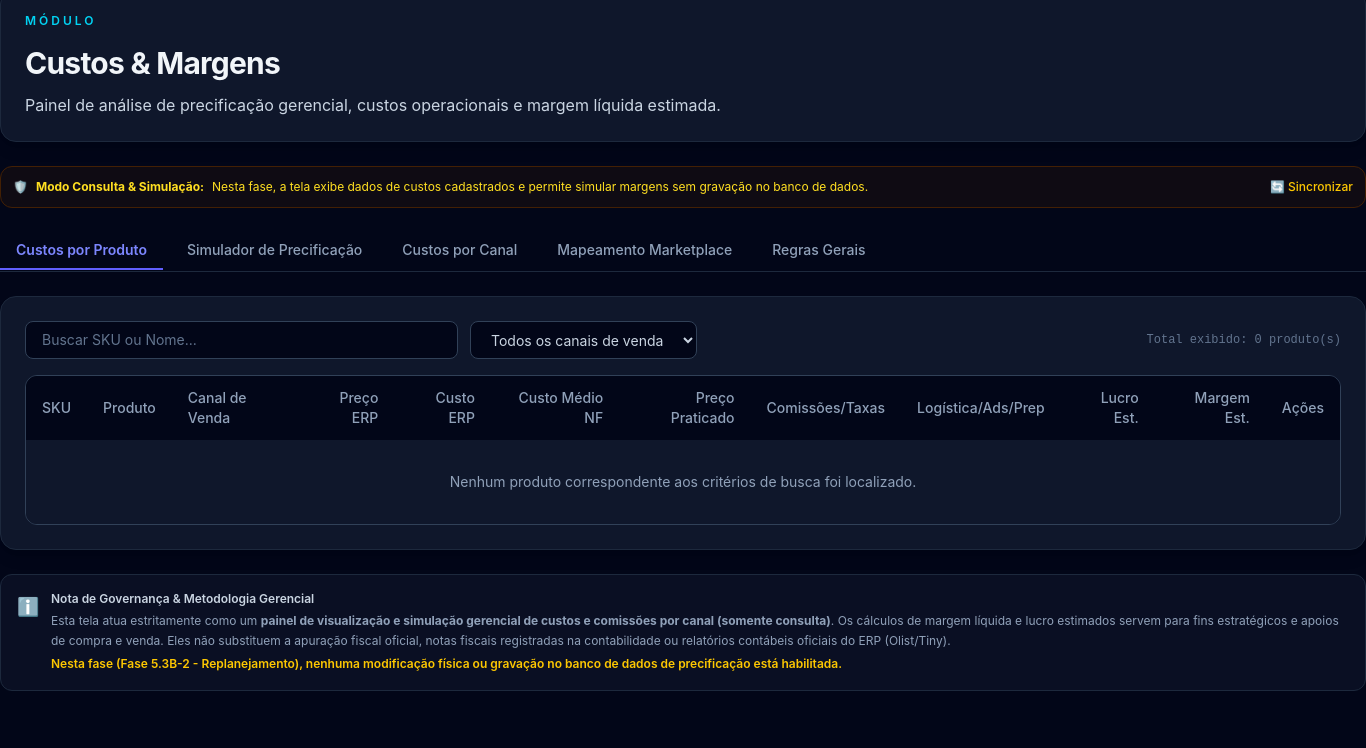
Scenario: CustosMargem - Simulador Mercado Livre (Fase 5.5L-6G.4) › 4. deve garantir que warnings retornados pelo provider sao exibidos na tela
Click the button "Simulador de Precificação": (275, 251) [171, 232, 378, 270]
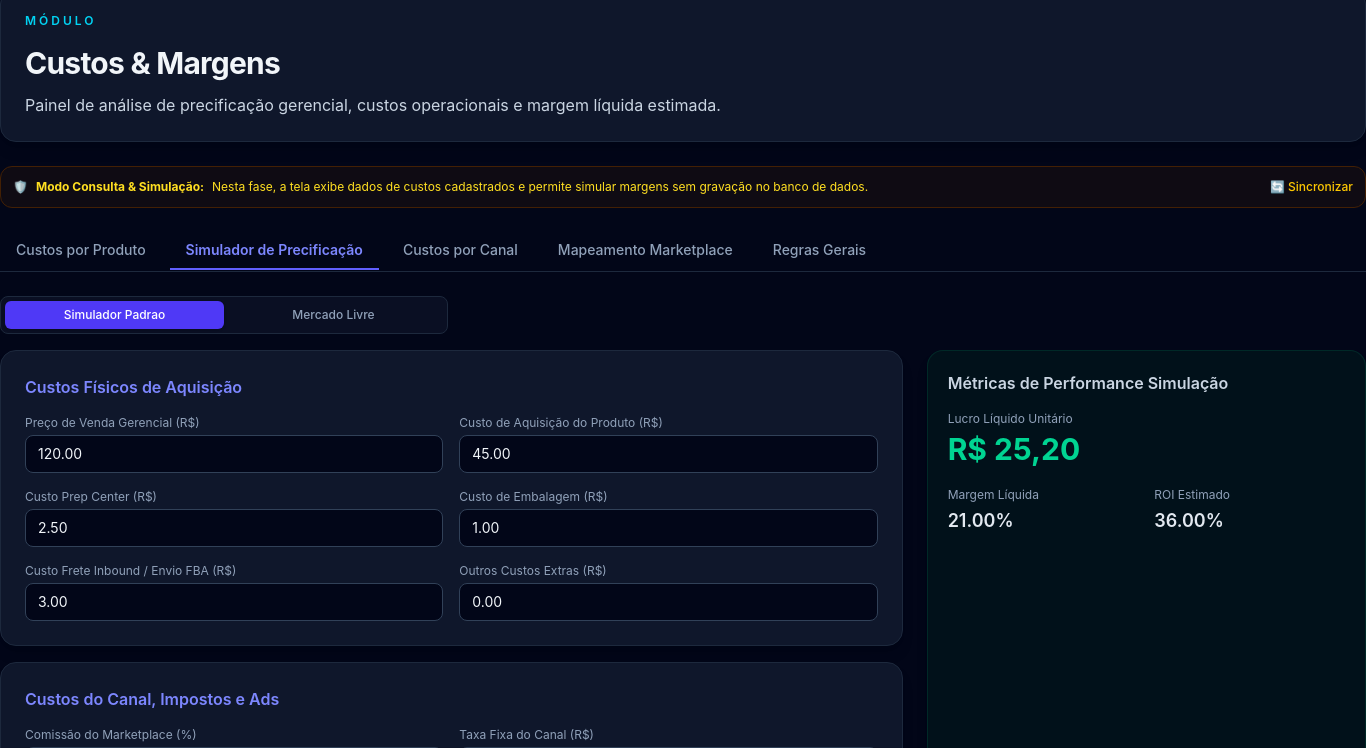
Click the button "Mercado Livre": (334, 315) [224, 301, 443, 329]
(page scrolled)
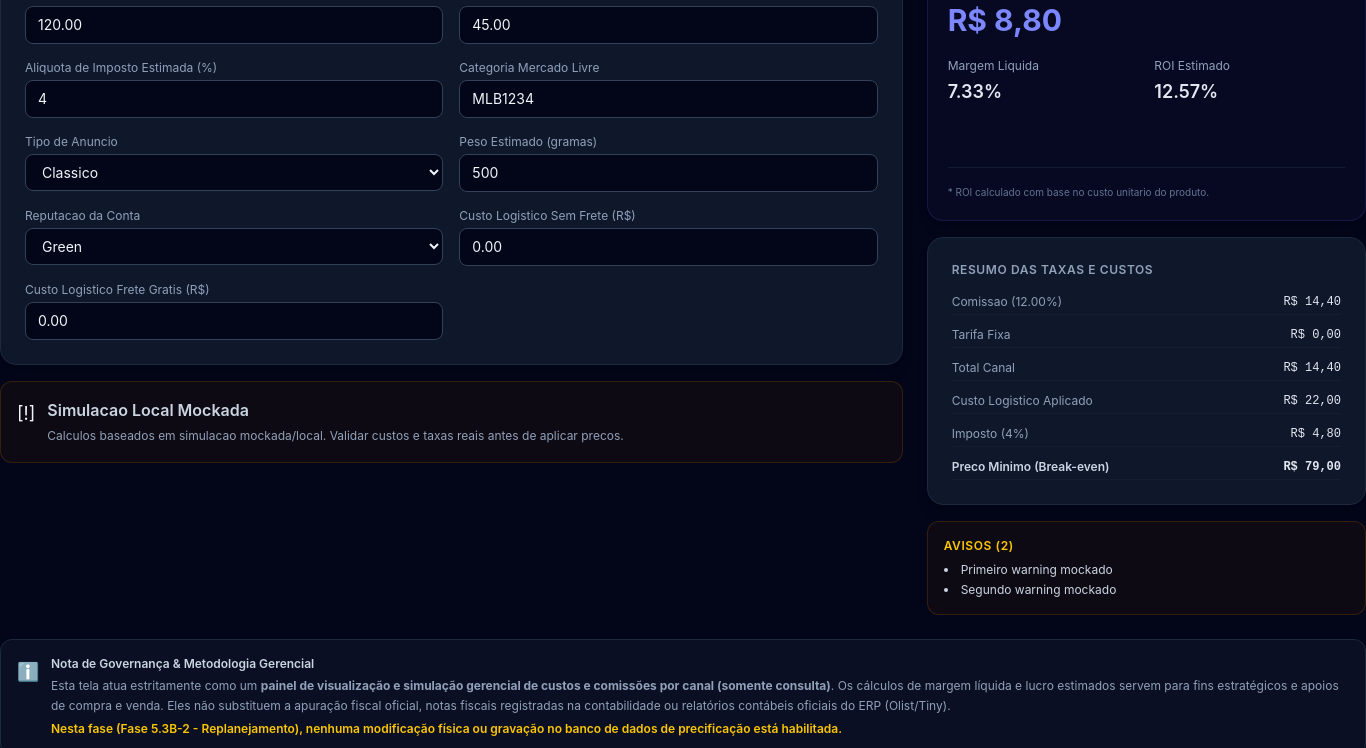
Result: the list item "Primeiro warning mockado" is shown at [961, 562, 1113, 577]
Result: the list item "Segundo warning mockado" is shown at [961, 582, 1116, 597]
